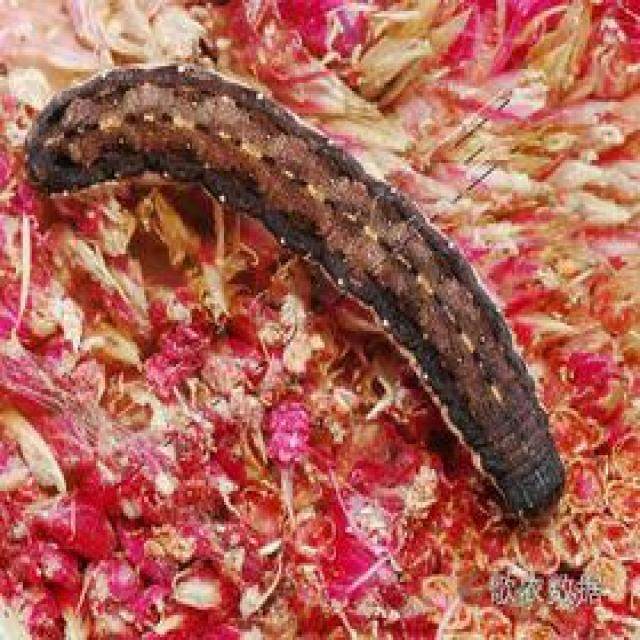BeetArmyWorm-Larva-: (19, 50, 582, 532)
